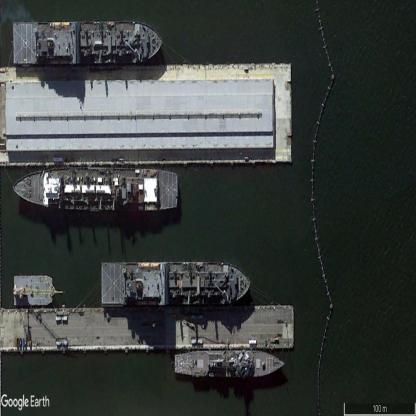ship: (12, 168, 179, 212), (12, 22, 163, 66), (100, 262, 252, 302), (174, 349, 285, 381), (13, 271, 66, 304)
